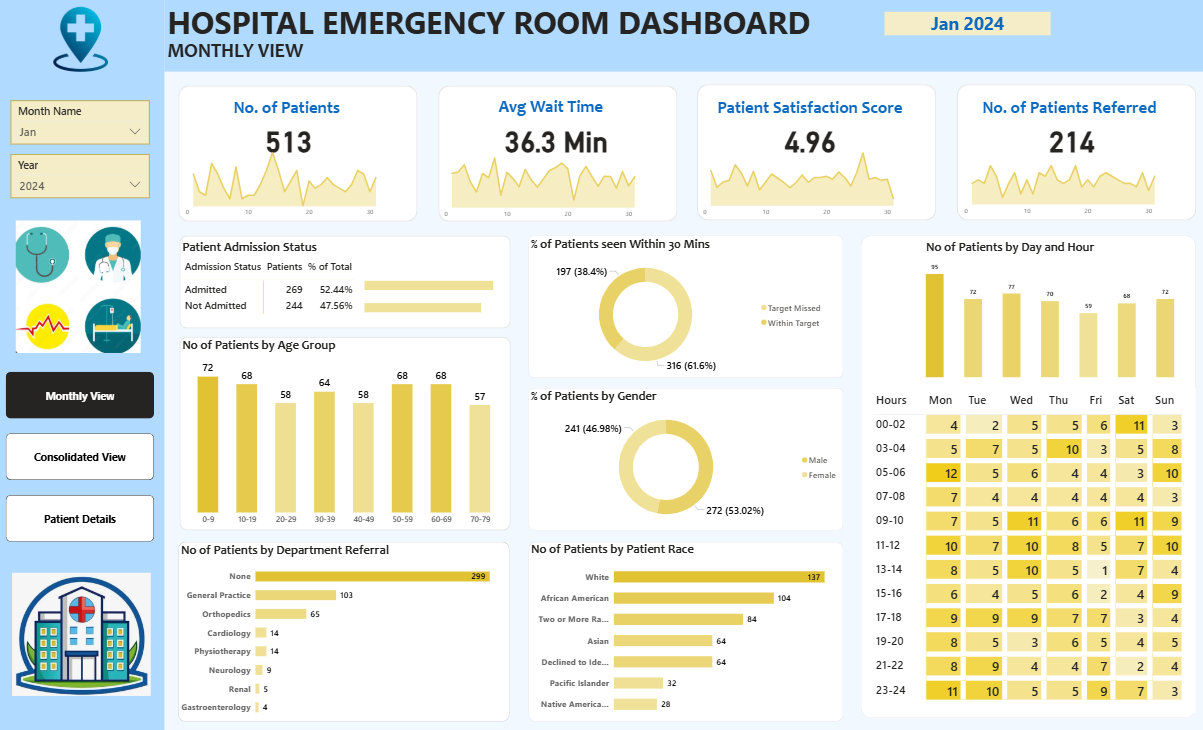

The dashboard page shown, as its layout file describes it:
{"tool":"powerbi","page":{"name":"Monthly View","canvas":[2300,1400],"ordinal":0},"visuals":[{"type":"shape","box":[0,2.4,318.6,1398.1],"z":0},{"type":"shape","box":[318.6,0,1983,140.3],"z":1000},{"type":"textbox","box":[318.6,0,1343.4,99.9],"z":2000},{"type":"textbox","box":[318.6,71.3,311.5,69],"z":3000},{"type":"shape","box":[344.8,166.4,455,259.2],"z":4000},{"type":"card","title":"No. of Patients","fields":{"Values":["Hospital ER_Data.No of Patients"]},"box":[477.9,221.1,152.2,90.4],"z":5000},{"type":"slicer","fields":{"Values":["Date Table.Year"]},"box":[26.2,297.2,263.9,83.2],"z":6000},{"type":"slicer","fields":{"Values":["Date Table.Month Name"]},"box":[26.2,195,263.9,83.2],"z":7000},{"type":"textbox","box":[444.6,183.1,275.8,76.1],"z":8000},{"type":"areaChart","fields":{"Category":["Date Table.Date.Variation.Date Hierarchy.Day"],"Y":["Hospital ER_Data.No of Patients"]},"box":[347.1,280.6,435.1,145],"z":9000},{"type":"card","fields":{"Values":["Min(Date Table.Month & Year)"]},"box":[1688.2,26.2,316.2,45.2],"z":10000},{"type":"shape","box":[838.2,166.9,455,259.2],"z":11000},{"type":"card","title":"No. of Patients","fields":{"Values":["Hospital ER_Data.Avg Wait Time"]},"box":[948.7,221.1,230.6,90.4],"z":12000},{"type":"textbox","box":[948.7,180.7,259.2,73.7],"z":13000},{"type":"areaChart","fields":{"Category":["Date Table.Date.Variation.Date Hierarchy.Day"],"Y":["Avg(Hospital ER_Data.Patient Waittime)"]},"box":[839.3,282.9,435.1,145],"z":14000},{"type":"shape","box":[1331.7,163.1,455,259.2],"z":15000},{"type":"card","title":"No. of Patients","fields":{"Values":["Hospital ER_Data.Satisfaction Score"]},"box":[1450.4,221.1,192.6,90.4],"z":16000},{"type":"textbox","box":[1364.8,183.1,366.2,76.1],"z":17000},{"type":"areaChart","fields":{"Category":["Date Table.Date.Variation.Date Hierarchy.Day"],"Y":["Hospital ER_Data.Satisfaction Score"]},"box":[1331.5,280.6,435.1,145],"z":18000},{"type":"shape","box":[1825.2,165,455,259.2],"z":19000},{"type":"card","title":"No. of Patients","fields":{"Values":["Hospital ER_Data.No of Patients Referred"]},"box":[1968.8,221.1,152.2,90.4],"z":20000},{"type":"textbox","box":[1868.9,183.1,378.1,76.1],"z":21000},{"type":"areaChart","fields":{"Category":["Date Table.Date.Variation.Date Hierarchy.Day"],"Y":["Hospital ER_Data.No of Patients Referred"]},"box":[1827.5,279.2,435.1,145],"z":22000},{"type":"shape","box":[347.1,451.8,630,177],"z":23000},{"type":"pivotTable","title":"Patient Admission Status","fields":{"Rows":["Hospital ER_Data.Admission Status"],"Values":["Hospital ER_Data.No of Patients1","Hospital ER_Data.No of Patients"]},"box":[347.1,458.9,630.1,168.8],"z":24000},{"type":"barChart","fields":{"Category":["Hospital ER_Data.Admission Status"],"Y":["Hospital ER_Data.No of Patients"]},"box":[694.3,504.1,282.9,123.6],"z":25000},{"type":"shape","box":[347.1,644.4,630.1,368.5],"z":26000},{"type":"clusteredColumnChart","fields":{"Category":["Hospital ER_Data.Age Group"],"Y":["Hospital ER_Data.No of Patients"]},"box":[347.1,644.4,627.7,368.5],"z":27000},{"type":"shape","box":[344.8,1034.3,630.1,342.4],"z":28000},{"type":"clusteredBarChart","fields":{"Category":["Hospital ER_Data.Department Referral"],"Y":["Hospital ER_Data.No of Patients"]},"box":[344.8,1034.3,630.1,344.8],"z":29000},{"type":"shape","box":[1010.5,451.8,599.2,271.1],"z":30000},{"type":"donutChart","title":"% of Patients seen Within 30 Mins","fields":{"Category":["Hospital ER_Data.Waittime Status"],"Y":["Hospital ER_Data.No of Patients"]},"box":[1010.5,451.8,570.7,271.1],"z":31000},{"type":"shape","box":[1010.5,741.9,599.2,271.1],"z":32000},{"type":"donutChart","title":"% of Patients by Gender","fields":{"Y":["Hospital ER_Data.No of Patients"],"Category":["Hospital ER_Data.Patient Gender"]},"box":[1010.5,741.9,599.2,271.1],"z":33000},{"type":"shape","box":[1010.5,1034.3,599.2,342.4],"z":34000},{"type":"clusteredBarChart","fields":{"Y":["Hospital ER_Data.No of Patients"],"Category":["Hospital ER_Data.Patient Race"]},"box":[1010.5,1031.9,599.2,344.8],"z":35000},{"type":"shape","box":[1643,451.8,637.2,917.8],"z":36000},{"type":"pivotTable","fields":{"Rows":["Hospital ER_Data.Waittime Interval"],"Columns":["Date Table.Day Name"],"Values":["Hospital ER_Data.No of Patients"]},"box":[1662,741.9,618.2,618.2],"z":37000},{"type":"columnChart","title":"No of Patients by Day and Hour","fields":{"Category":["Date Table.Day Name"],"Y":["Hospital ER_Data.No of Patients"]},"box":[1761.9,458.9,485.1,268.7],"z":38000},{"type":"pageNavigator","box":[16.6,710.9,282.9,323.4],"z":39000},{"type":"image","box":[28.5,1060.5,263.9,299.6],"z":40000},{"type":"image","box":[26.2,423.2,256.8,252],"z":41002},{"type":"image","box":[0,16.6,318.6,123.6],"z":41003}]}

Visuals, with their boxes in screenshot pixels (x1, y1, x2, y2), scaled from the page's 2300x1400 canvas onto the 1203x730 screenshot:
shape: region(0, 1, 167, 729)
shape: region(167, 0, 1202, 73)
textbox: region(167, 0, 869, 52)
textbox: region(167, 37, 330, 73)
shape: region(180, 87, 418, 222)
"No. of Patients" card: region(250, 115, 330, 162)
slicer - Date Table.Year: region(14, 155, 152, 198)
slicer - Date Table.Month Name: region(14, 102, 152, 145)
textbox: region(233, 95, 377, 135)
areaChart - Date Table.Date.Variation.Date Hierarchy.Day x Hospital ER_Data.No of Patients: region(182, 146, 409, 222)
card - Min(Date Table.Month & Year): region(883, 14, 1048, 37)
shape: region(438, 87, 676, 222)
"No. of Patients" card: region(496, 115, 617, 162)
textbox: region(496, 94, 632, 133)
areaChart - Date Table.Date.Variation.Date Hierarchy.Day x Avg(Hospital ER_Data.Patient Waittime): region(439, 148, 667, 223)
shape: region(697, 85, 935, 220)
"No. of Patients" card: region(759, 115, 859, 162)
textbox: region(714, 95, 905, 135)
areaChart - Date Table.Date.Variation.Date Hierarchy.Day x Hospital ER_Data.Satisfaction Score: region(696, 146, 924, 222)
shape: region(955, 86, 1193, 221)
"No. of Patients" card: region(1030, 115, 1109, 162)
textbox: region(978, 95, 1175, 135)
areaChart - Date Table.Date.Variation.Date Hierarchy.Day x Hospital ER_Data.No of Patients Referred: region(956, 146, 1183, 221)
shape: region(182, 236, 511, 328)
"Patient Admission Status" pivotTable: region(182, 239, 511, 327)
barChart - Hospital ER_Data.Admission Status x Hospital ER_Data.No of Patients: region(363, 263, 511, 327)
shape: region(182, 336, 511, 528)
clusteredColumnChart - Hospital ER_Data.Age Group x Hospital ER_Data.No of Patients: region(182, 336, 510, 528)
shape: region(180, 539, 510, 718)
clusteredBarChart - Hospital ER_Data.Department Referral x Hospital ER_Data.No of Patients: region(180, 539, 510, 719)
shape: region(529, 236, 842, 377)
"% of Patients seen Within 30 Mins" donutChart: region(529, 236, 827, 377)
shape: region(529, 387, 842, 528)
"% of Patients by Gender" donutChart: region(529, 387, 842, 528)
shape: region(529, 539, 842, 718)
clusteredBarChart - Hospital ER_Data.No of Patients x Hospital ER_Data.Patient Race: region(529, 538, 842, 718)
shape: region(859, 236, 1193, 714)
pivotTable - Hospital ER_Data.Waittime Interval x Date Table.Day Name: region(869, 387, 1193, 709)
"No of Patients by Day and Hour" columnChart: region(922, 239, 1175, 379)
pageNavigator: region(9, 371, 157, 539)
image: region(15, 553, 153, 709)
image: region(14, 221, 148, 352)
image: region(0, 9, 167, 73)
